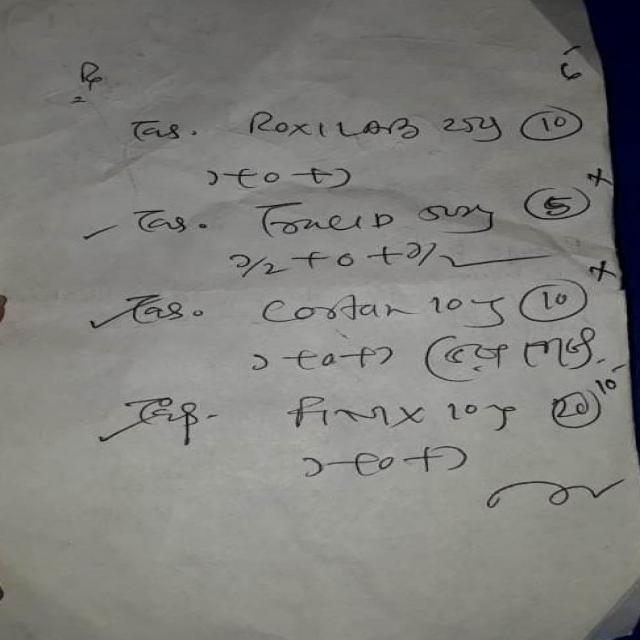Cortan: (263, 295, 405, 326)
Finix: (280, 388, 428, 435)
Flucid: (233, 195, 398, 242)
Roxilab: (230, 106, 437, 152)
